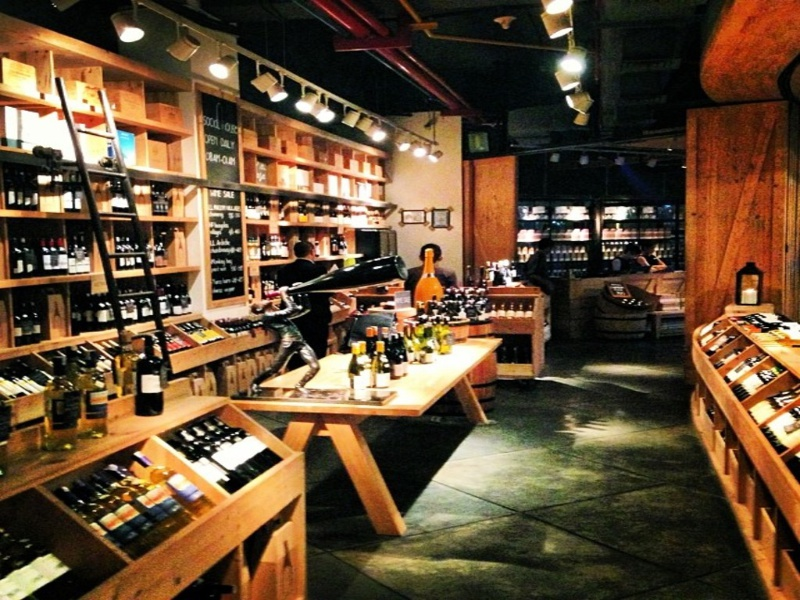wine: (1, 389, 282, 600), (3, 156, 197, 324), (687, 311, 800, 597), (337, 247, 497, 416), (512, 199, 686, 275)
